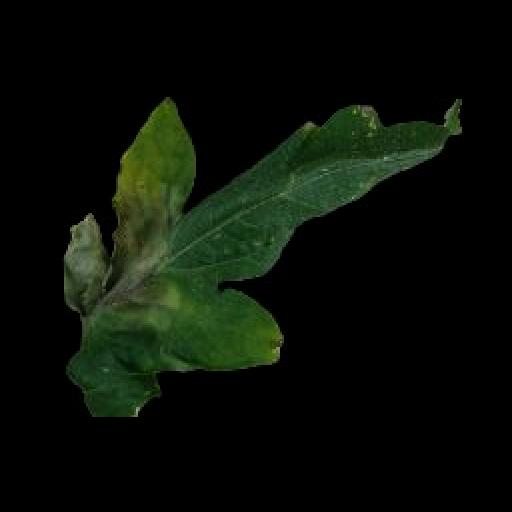disease_tomato: (61, 89, 467, 415)
